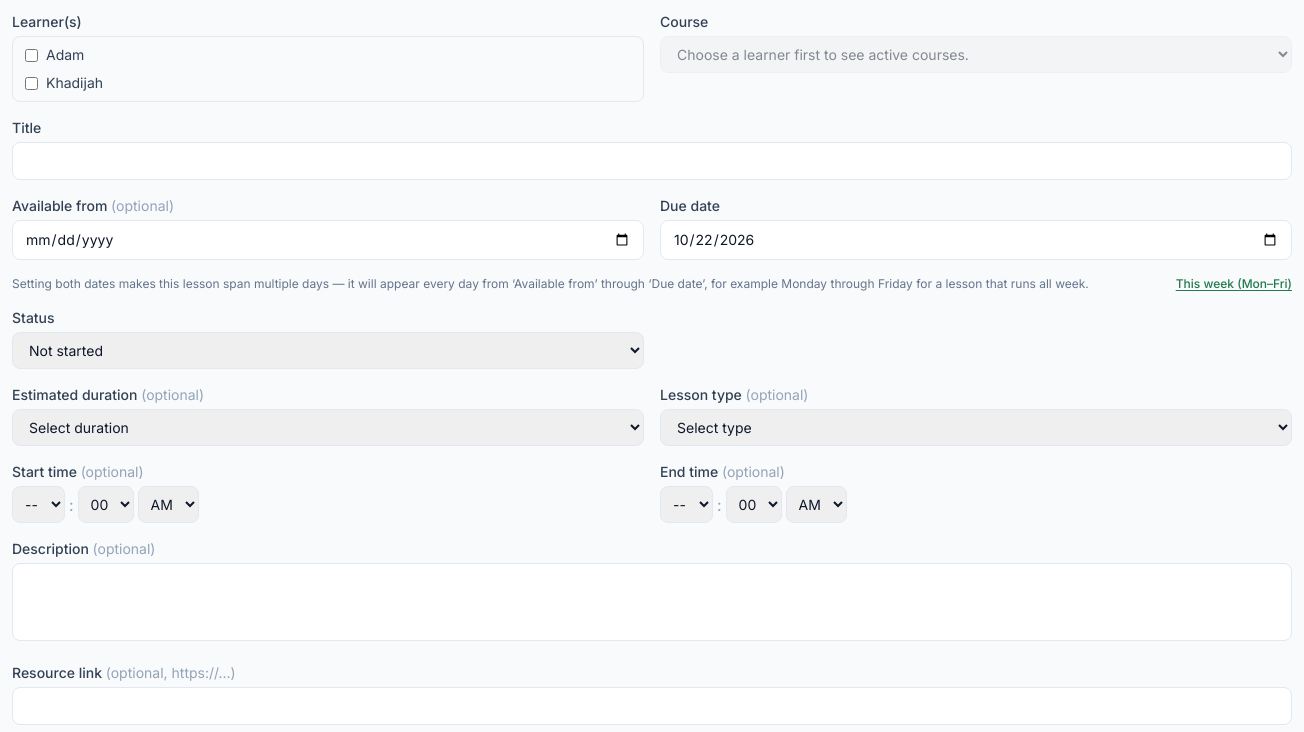
Test case: LessonTaskForm — off-day (household schoolDays) awareness › warning is dismissible
Type "2026-05-16" into the date field labelled "Due date".
click(976, 240); type("2026-05-16")  # box x1=660 y1=220 x2=1292 y2=260
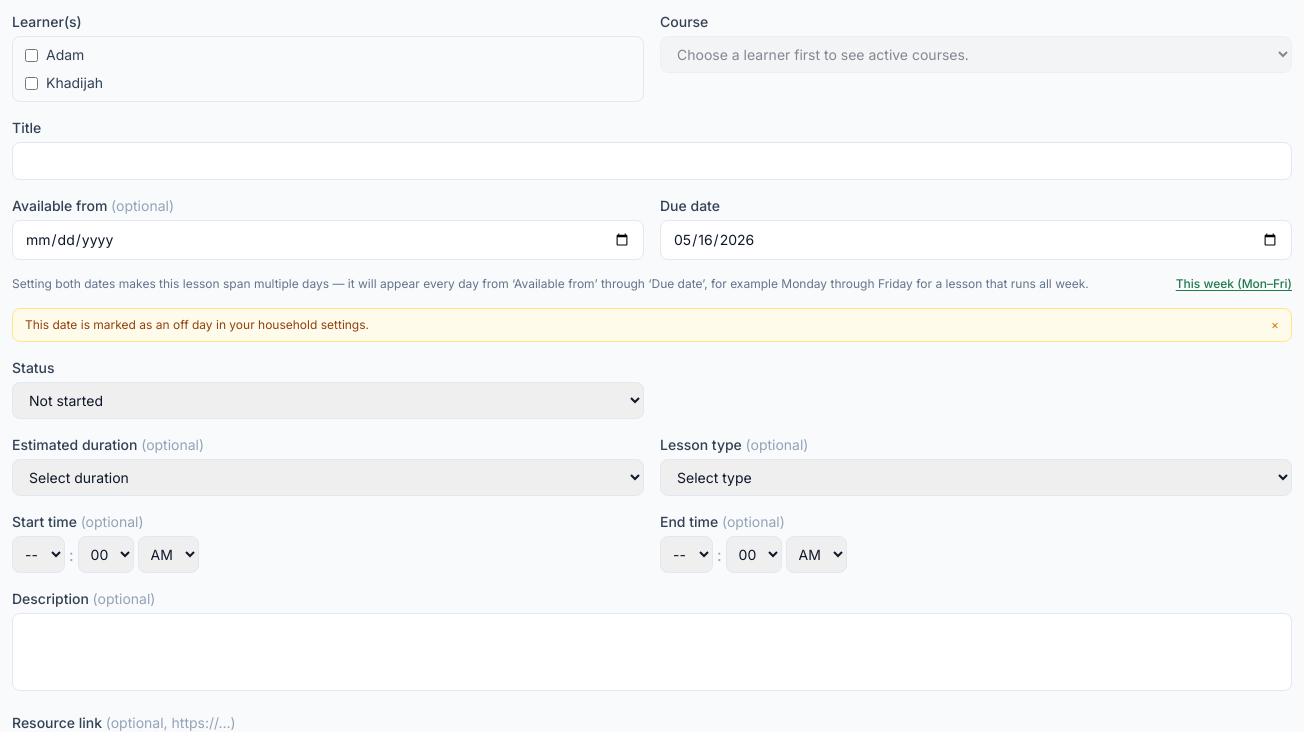
Result: the text "off day" is shown at x1=25 y1=317 x2=369 y2=332
Click the button named "dismiss off-day warning".
click(1275, 325)  # box x1=1271 y1=317 x2=1279 y2=333
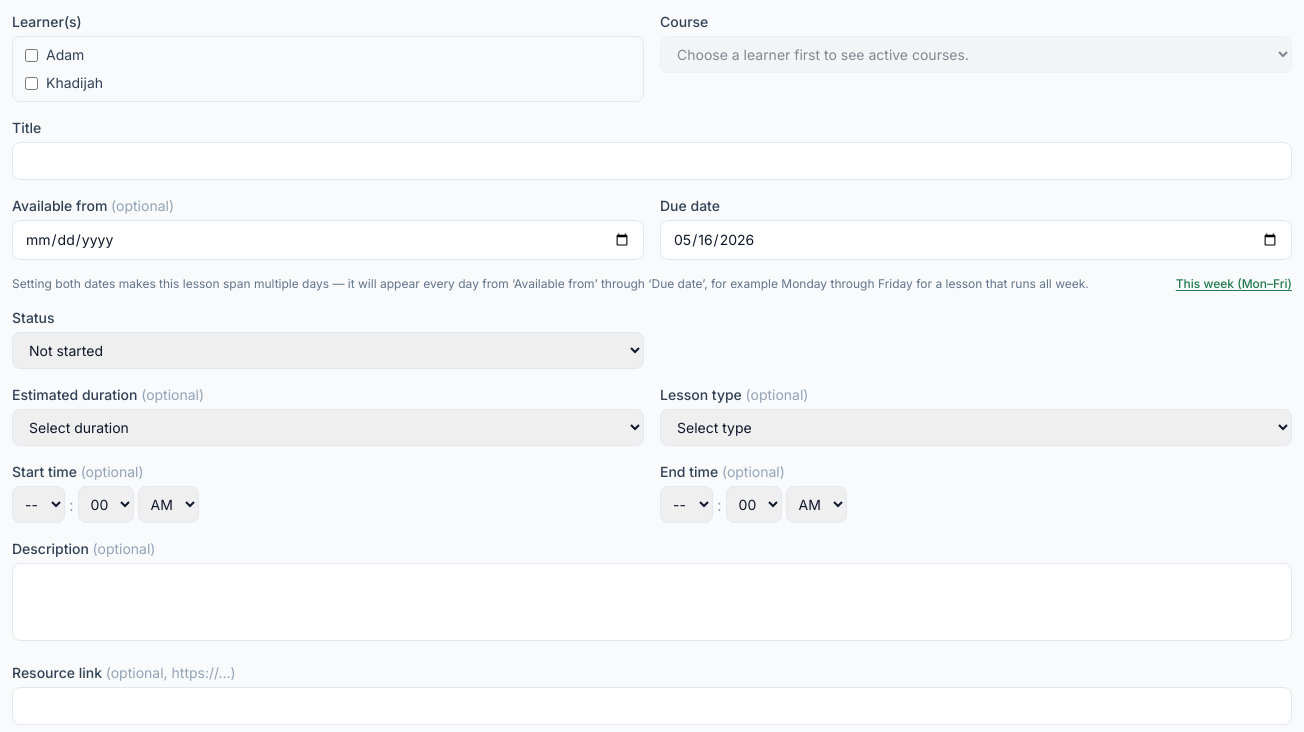
Result: the text "off day" is gone
